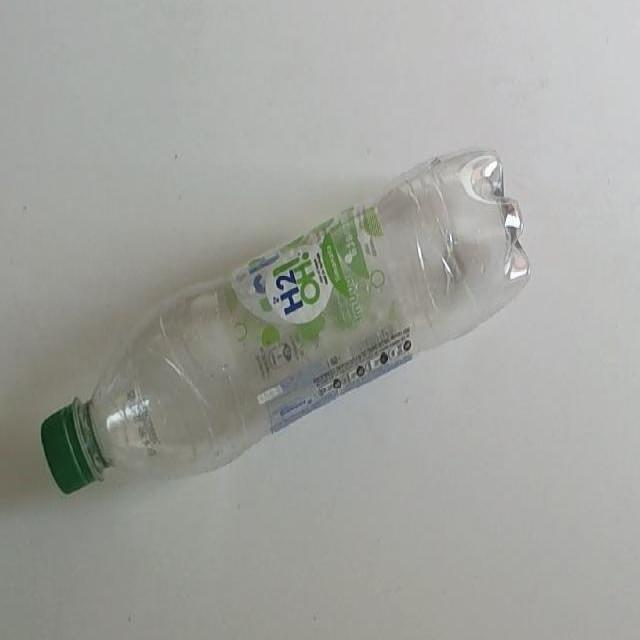non-defect: (39, 144, 533, 498)
